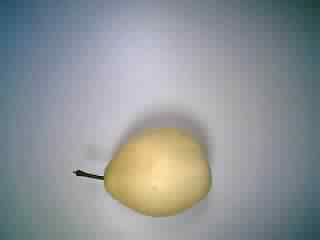pear: (66, 123, 218, 219)
